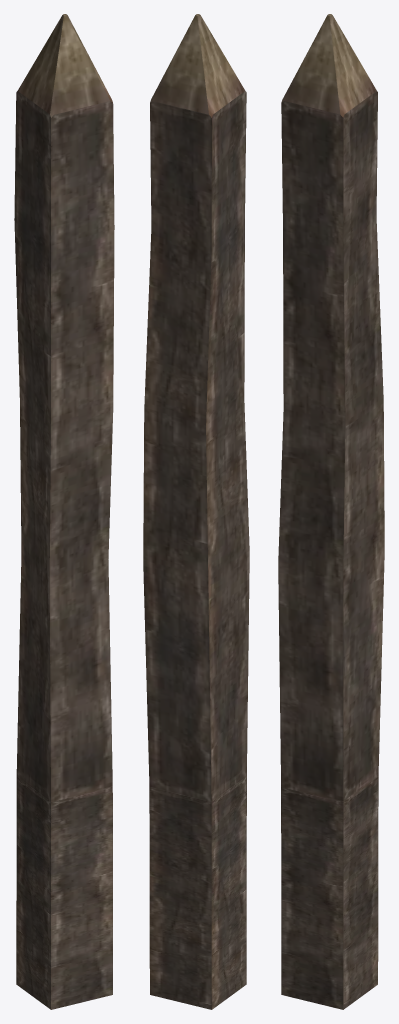
The model's file is jav_struc_def_Stone_t2_post_bd-transformed.glb.
The picture shows the model from 3 angles, left to right: view 1: azimuth 30°, elevation 25°; view 2: azimuth 150°, elevation 25°; view 3: azimuth 330°, elevation 25°; orthographic projection.
Parts seen in each view (by area): view 1: default; view 2: default; view 3: default.
Boxes of the visible parts, x1,y1,x2,y2 form: default: (14,14,114,1009); default: (143,14,249,1009); default: (278,14,384,1009).
Size of the model in its own units: 0.9147 by 12.35 by 0.8709.
1 material, 1 textured.
